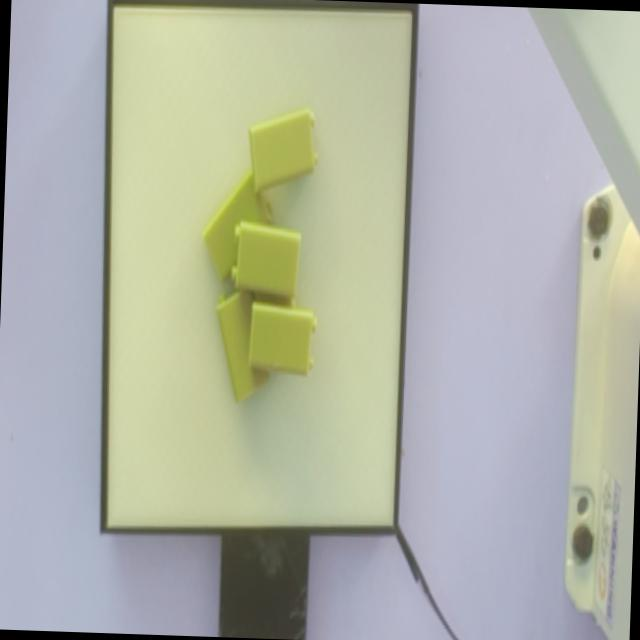bateria: (248, 105, 317, 194), (231, 221, 301, 296), (248, 302, 316, 376)
mesa: (100, 0, 418, 536)
